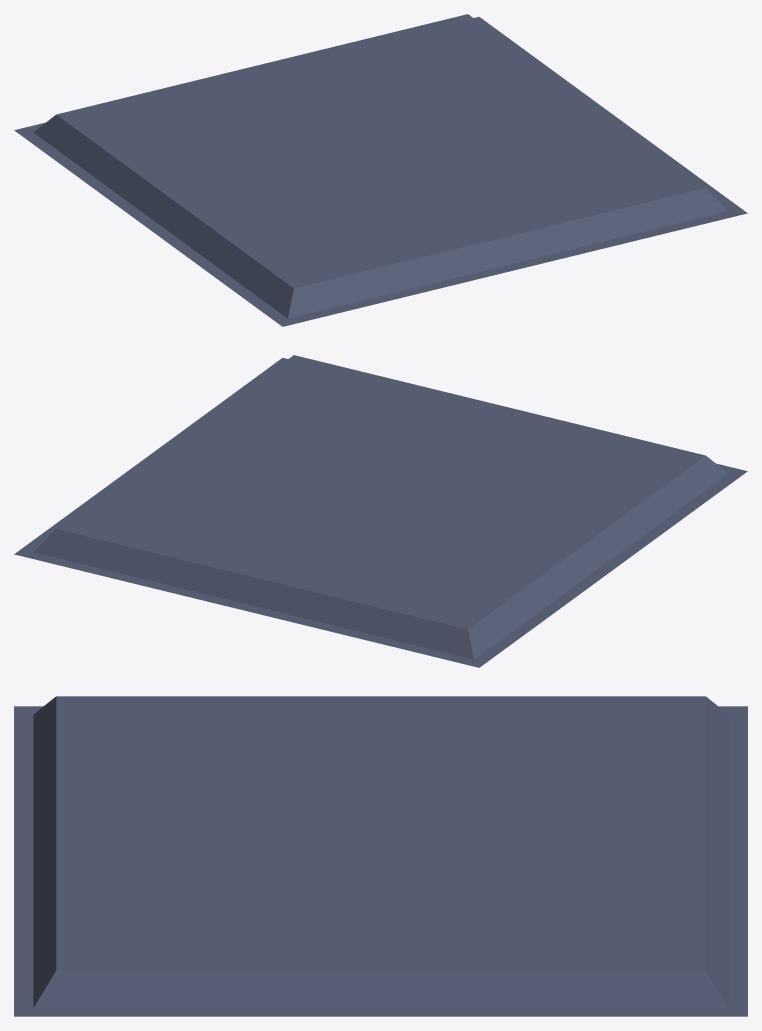
The model's file is baldosaSimple.fbx.
3 renders of one model, top to bottom at view 1: azimuth 30°, elevation 25°; view 2: azimuth 150°, elevation 25°; view 3: azimuth 270°, elevation 25°, orthographic. The views are drawn at different scales.
Parts seen in each view (by area): view 1: tile.003; view 2: tile.003; view 3: tile.003.
Boxes of the visible parts, left/top/right/bottom form: tile.003: left=14, top=14, right=747, bottom=326; tile.003: left=14, top=355, right=747, bottom=667; tile.003: left=14, top=696, right=747, bottom=1016.
Size of the model in its own units: 105 by 4.44 by 105.
